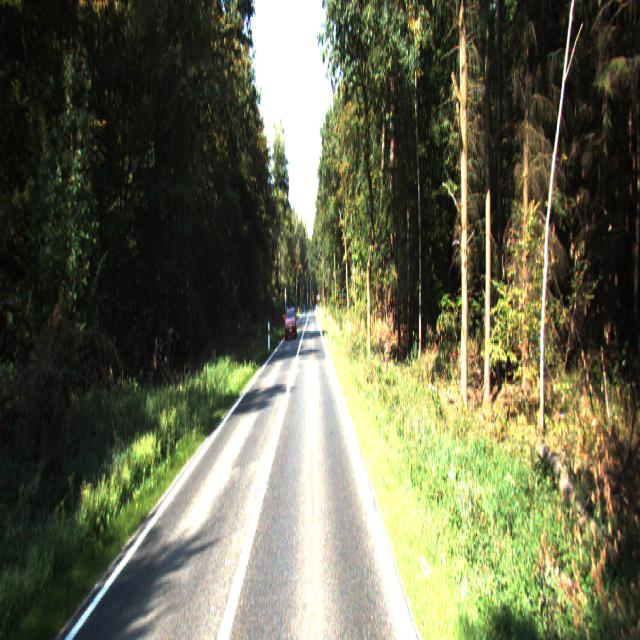Car: (284, 308, 298, 341)
